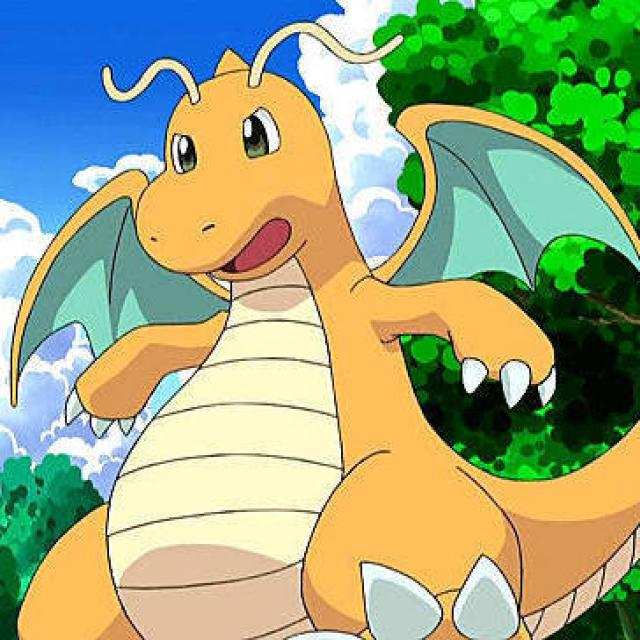Dragonite: (84, 49, 541, 640)
